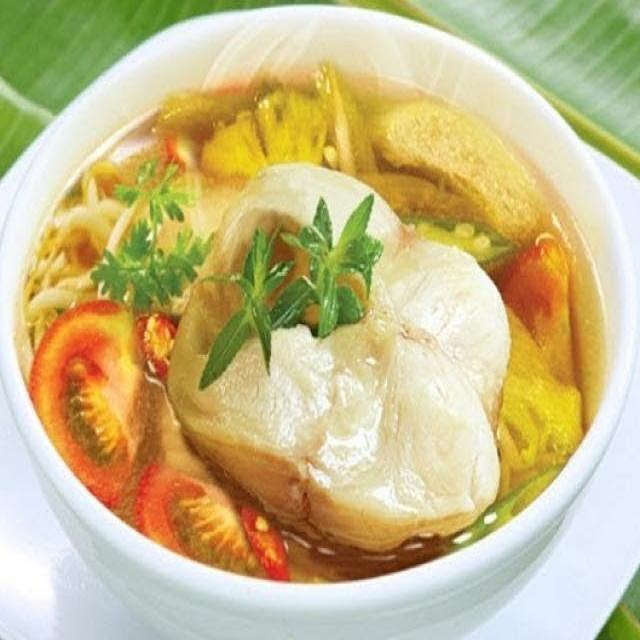canh chua: (15, 65, 589, 583)
